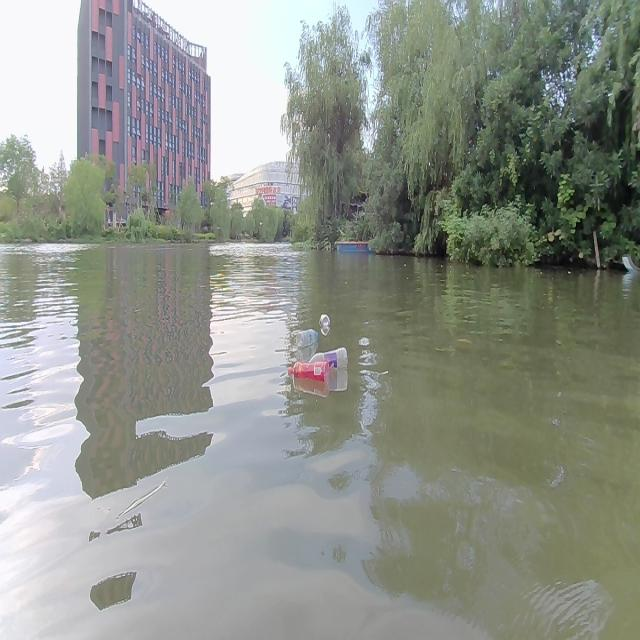bottle: (308, 346, 348, 378), (286, 357, 330, 384), (288, 328, 320, 348), (317, 310, 331, 334)
